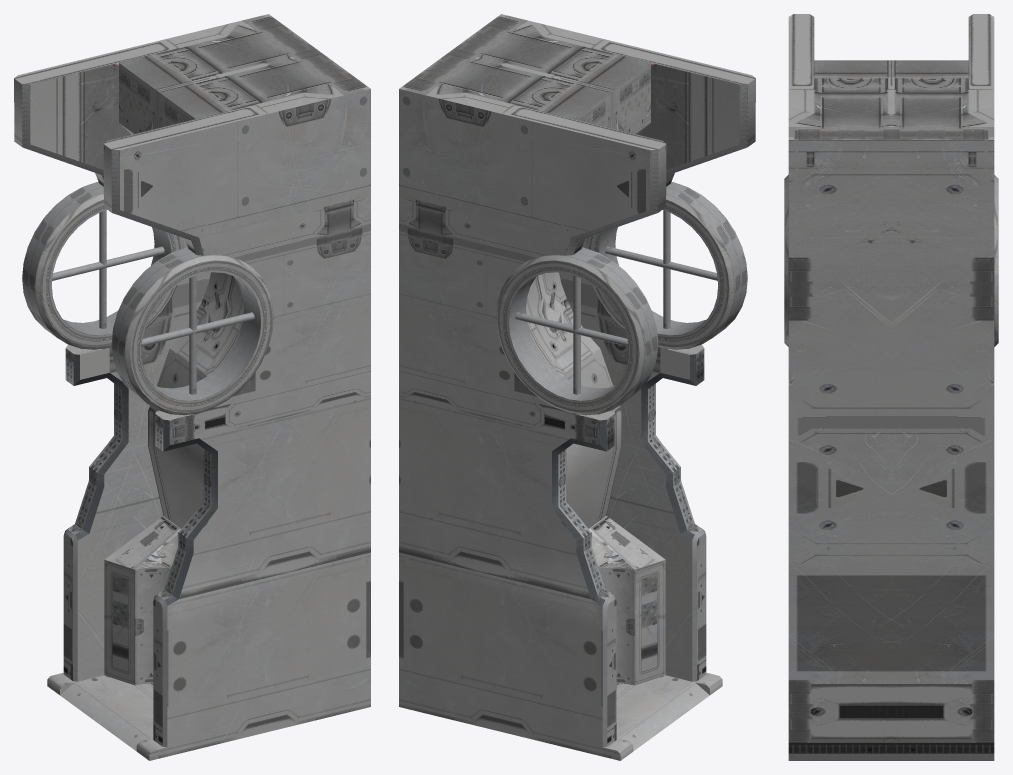
File: SM_PillarComp3.fbx
3 renders of one model, left to right at view 1: azimuth 30°, elevation 25°; view 2: azimuth 150°, elevation 25°; view 3: azimuth 270°, elevation 25°, orthographic.
Parts seen in each view (by area): view 1: SM_PillarComp3_LOD0; view 2: SM_PillarComp3_LOD0; view 3: SM_PillarComp3_LOD0.
Boxes of the visible parts, box(x1,y1,x2,y2) form: SM_PillarComp3_LOD0: box(14, 14, 370, 760); SM_PillarComp3_LOD0: box(399, 14, 755, 760); SM_PillarComp3_LOD0: box(784, 14, 998, 760).
Size of the model in its own units: 174 by 125 by 400.
3 materials, 3 textured.
